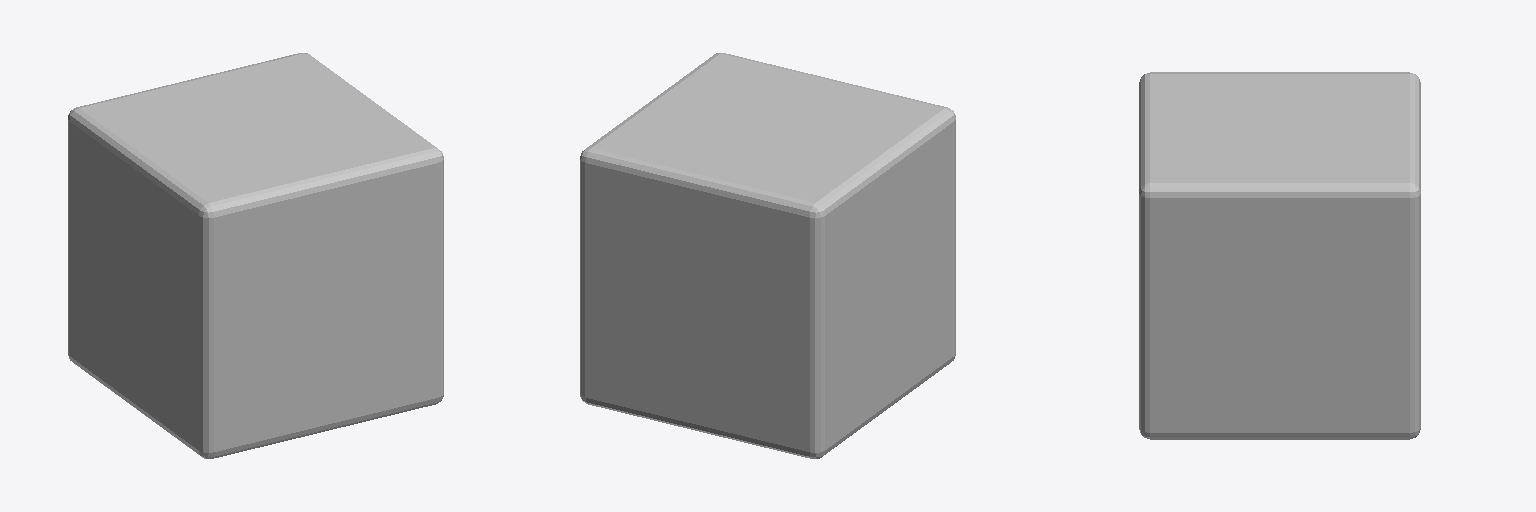
Rendered from cube_rounded.obj.
The picture shows the model from 3 angles: view 1: azimuth 30°, elevation 25°; view 2: azimuth 150°, elevation 25°; view 3: azimuth 270°, elevation 25°; orthographic projection.
Parts seen in each view (by area): view 1: Cube; view 2: Cube; view 3: Cube.
Boxes of the visible parts, box(x1,y1,x2,y2) form: Cube: box(68, 53, 443, 458); Cube: box(580, 53, 955, 458); Cube: box(1139, 72, 1420, 439).
Size of the model in its own units: 2 by 2 by 2.